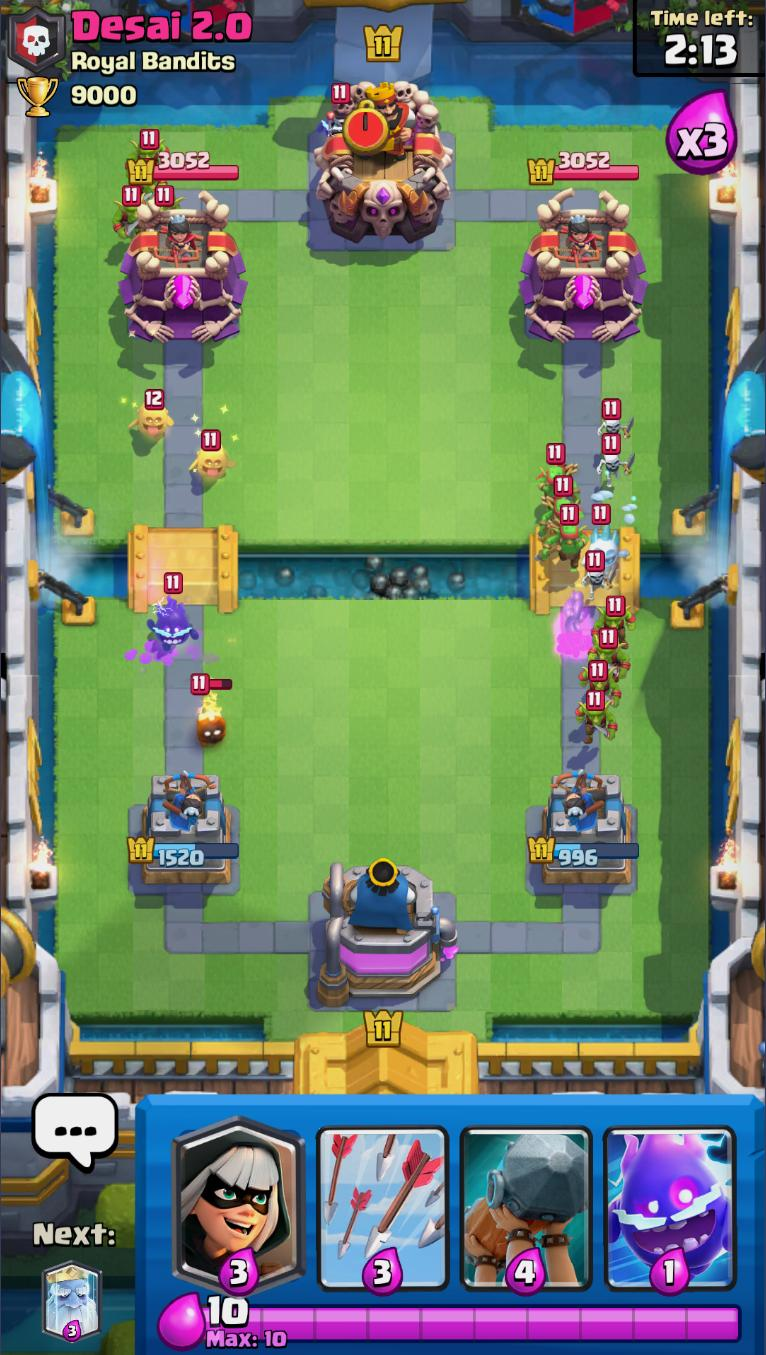ArrowDeck: (308, 1097, 456, 1293)
BanditDeck: (162, 1098, 311, 1290)
BattleRamDeck: (455, 1098, 599, 1297)
ElectroSpirit: (140, 573, 200, 648)
ElectroSpiritDeck: (596, 1097, 744, 1293)
Elixir: (203, 1285, 252, 1328)
EnemyTower: (522, 190, 650, 348), (120, 197, 238, 347)
FireSpirit: (188, 672, 233, 747)
Goblin: (592, 593, 640, 648), (588, 625, 630, 677), (577, 690, 618, 740), (580, 662, 627, 705), (127, 125, 173, 168), (113, 183, 148, 238)
HealSpirit: (132, 388, 177, 447), (190, 433, 235, 488)
IceSpirit: (583, 502, 630, 570)
KingTower: (313, 73, 450, 257)
MyKingTower: (315, 860, 462, 1010)
MyPrincessTower: (122, 773, 240, 892), (530, 767, 642, 887)
MyPrincessTowerHP: (128, 837, 238, 867), (532, 838, 642, 867)
PrincessTower: (153, 208, 205, 267), (552, 213, 605, 267)
RoyaleGhostNext: (42, 1257, 103, 1343)
Skeleton: (590, 433, 633, 485), (590, 397, 635, 440), (577, 548, 617, 595)
SpearGoblin: (545, 508, 590, 578), (538, 475, 585, 530), (537, 443, 580, 498)
TowerPrincessHP: (527, 150, 642, 188), (128, 149, 242, 185)
